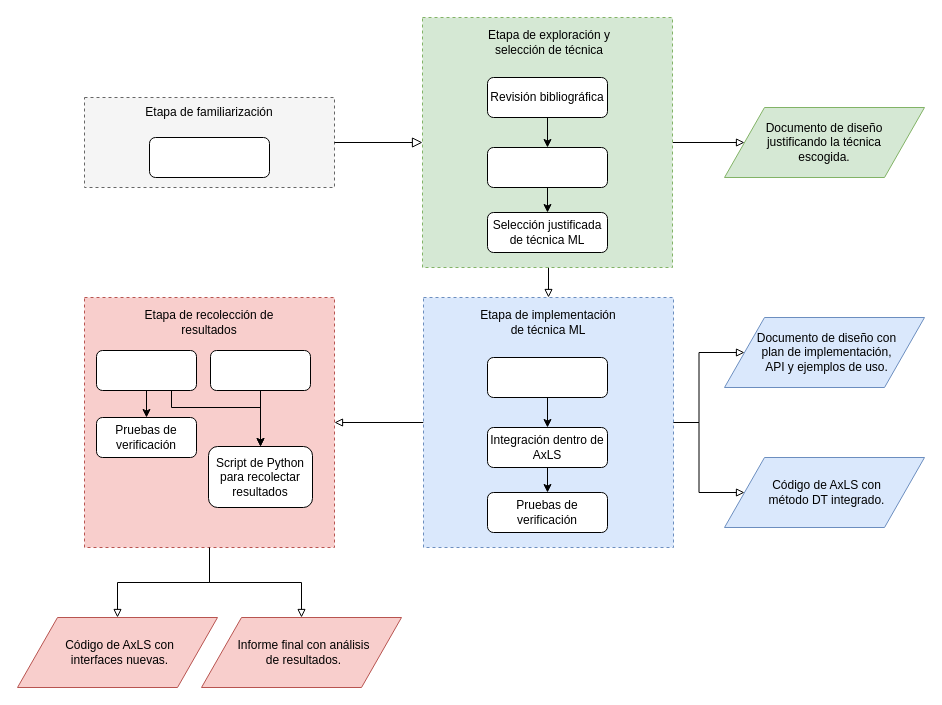
This 942x705 diagram has some shape labels left out. Each missing label, with the centre of its shape:
"Creación de API simplificada y CLI" belongs at [146,370].
"Definición de criterios de selección" belongs at [547,167].
"Definición de experimentos" belongs at [260,370].
"Diseño de API" belongs at [547,377].
"Experimentación con AxLS" belongs at [209,157].
